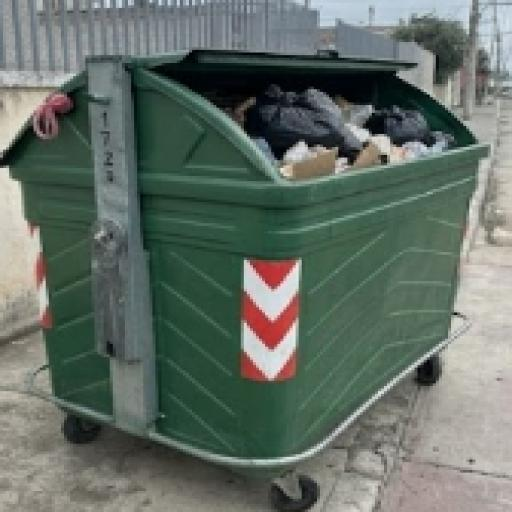Basura_fuera: (10, 48, 469, 496)
